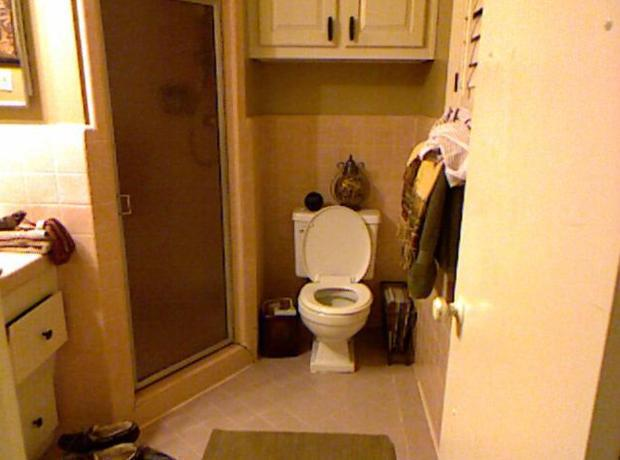Ducha: (92, 0, 252, 405)
Sanitario: (292, 205, 381, 374)
